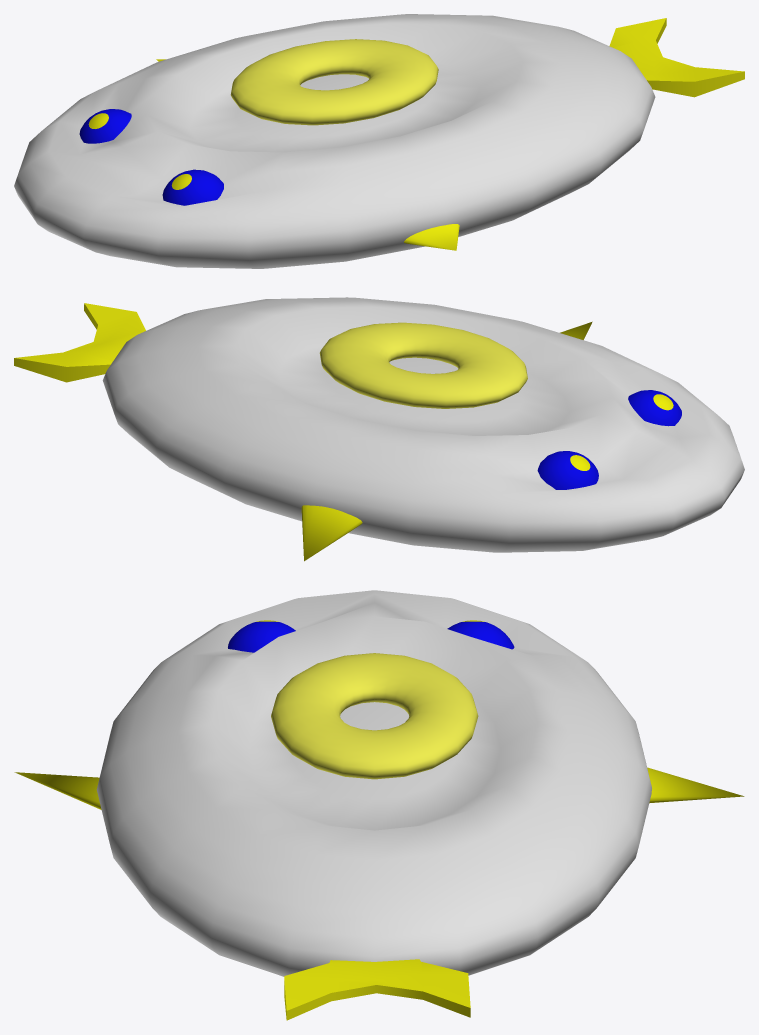
Rendered from fish_1.fbx.
The picture shows the model from 3 angles, top to bottom: view 1: azimuth 30°, elevation 25°; view 2: azimuth 150°, elevation 25°; view 3: azimuth 270°, elevation 25°; orthographic projection. The views are drawn at different scales.
Visible parts, largest first — view 1: Body1, Light, Tail_Fin, Eyeball1, Eyeball, Fin; view 2: Body1, Light, Tail_Fin, Fin1, Eyeball, Eyeball1; view 3: Body1, Light, Tail_Fin, Fin1, Fin, Eyeball1, Eyeball.
Part boxes in pixels (x1=…): Body1: x1=14, y1=14, x2=655, y2=268; Light: x1=230, y1=39, x2=438, y2=125; Tail_Fin: x1=609, y1=18, x2=744, y2=97; Eyeball1: x1=162, y1=169, x2=223, y2=205; Eyeball: x1=79, y1=109, x2=131, y2=143; Fin: x1=404, y1=224, x2=459, y2=250; Body1: x1=102, y1=297, x2=744, y2=552; Light: x1=319, y1=322, x2=527, y2=408; Tail_Fin: x1=14, y1=303, x2=145, y2=382; Fin1: x1=301, y1=505, x2=362, y2=561; Eyeball: x1=537, y1=451, x2=598, y2=489; Eyeball1: x1=628, y1=390, x2=681, y2=426; Body1: x1=96, y1=590, x2=651, y2=976; Light: x1=271, y1=653, x2=478, y2=779; Tail_Fin: x1=284, y1=959, x2=470, y2=1020; Fin1: x1=647, y1=767, x2=744, y2=803; Fin: x1=14, y1=772, x2=101, y2=809; Eyeball1: x1=228, y1=620, x2=295, y2=652; Eyeball: x1=447, y1=620, x2=514, y2=649.
Size of the model in its own units: 3.06 by 0.5397 by 2.31.
